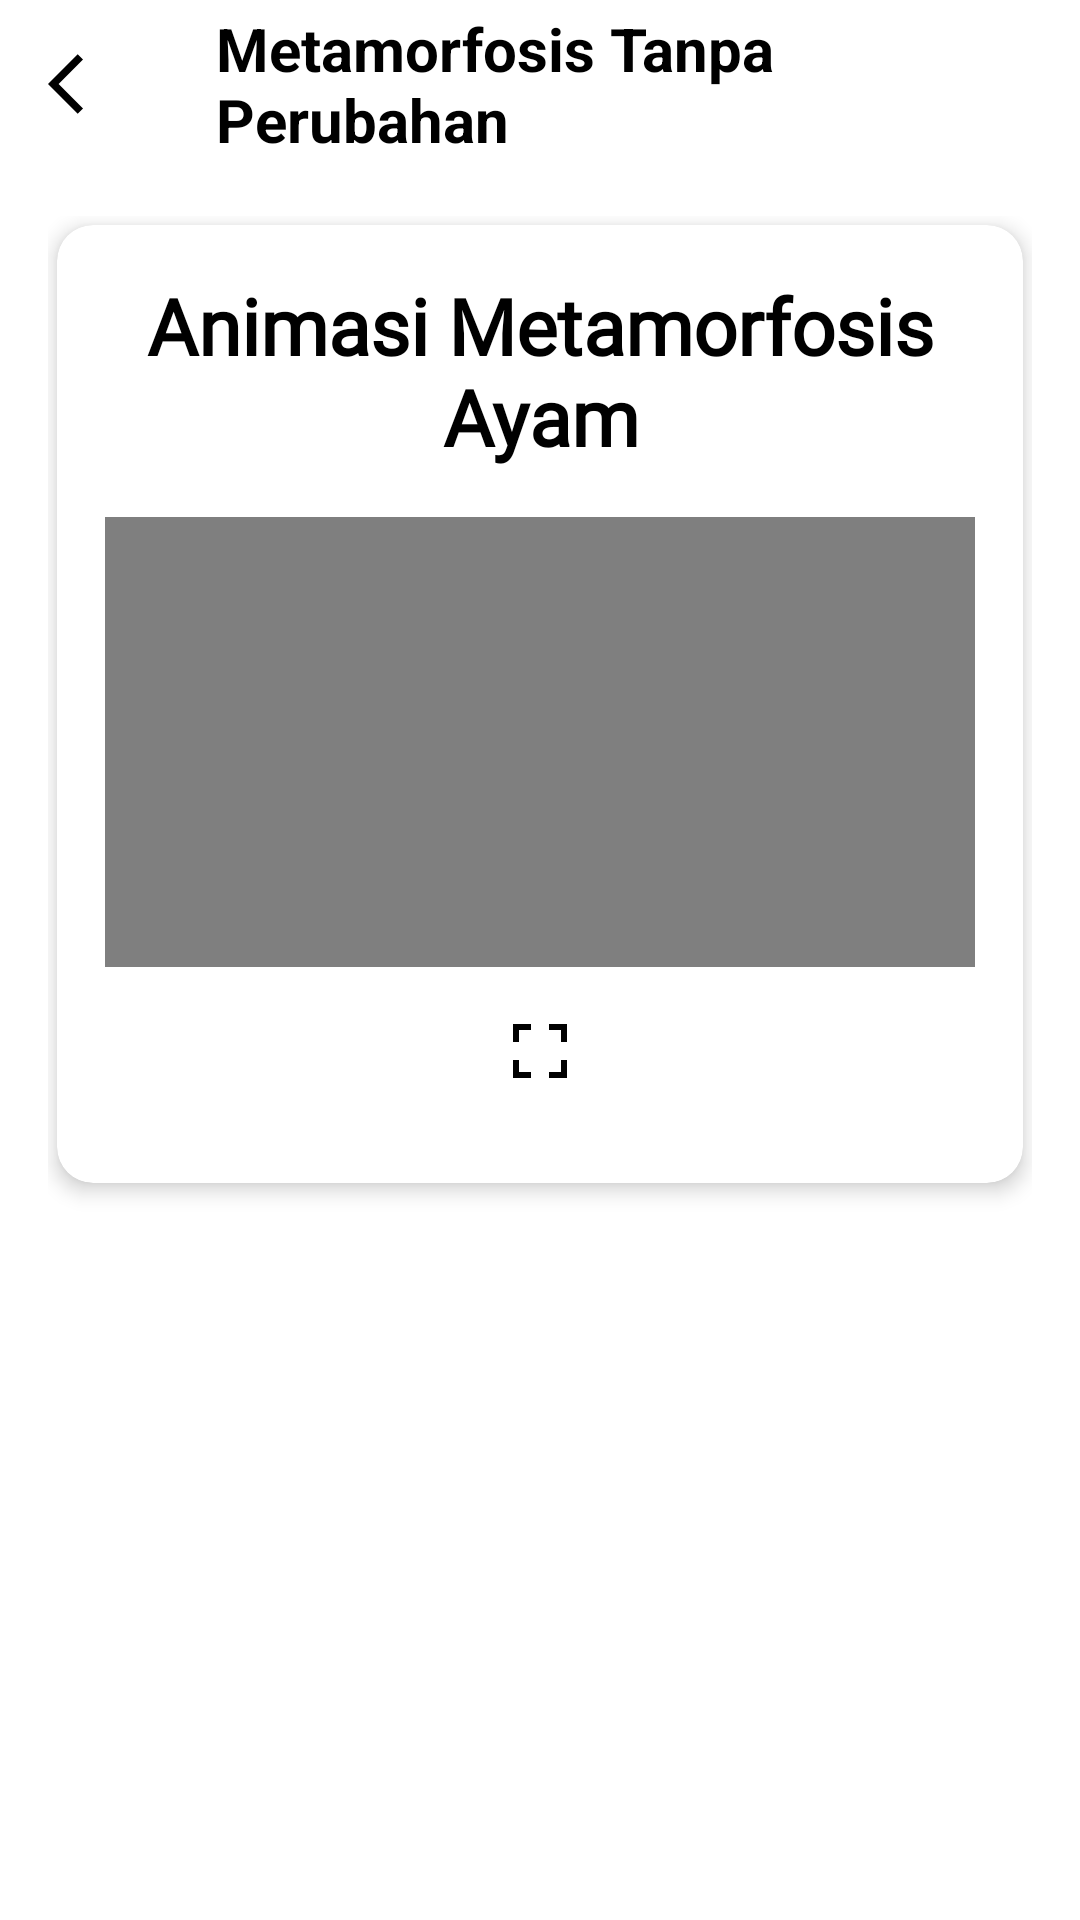

Icons on this 1080×1920 Android screen, each with its box as (x1=x1, y1=y1, x2=x2, y2=y2):
Fullscreen: (x1=513, y1=1024, x2=567, y2=1078)
